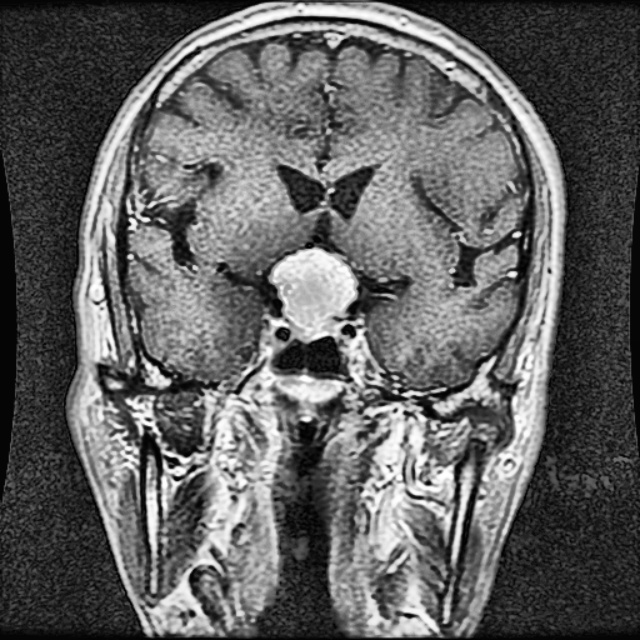Glioma: (268, 247, 357, 339)
